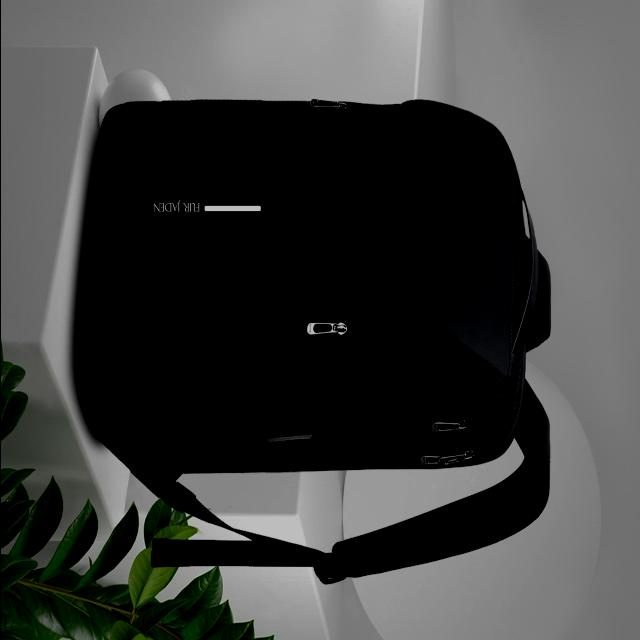backpack: (76, 98, 554, 586)
